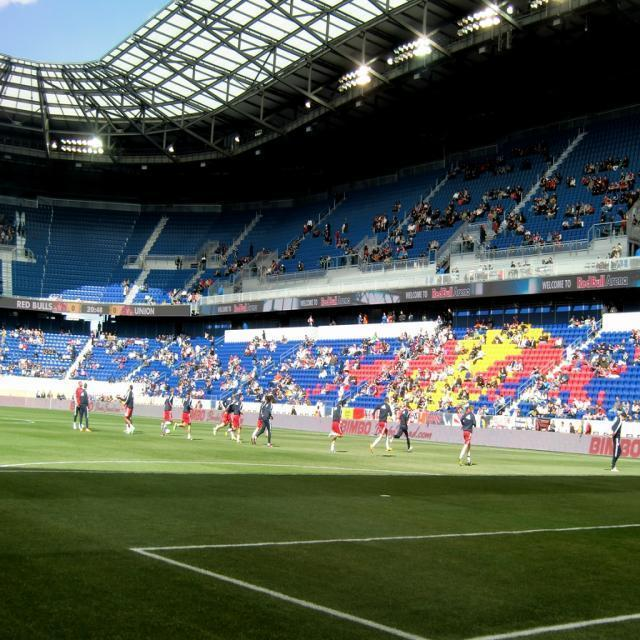ball: (168, 428, 171, 434)
